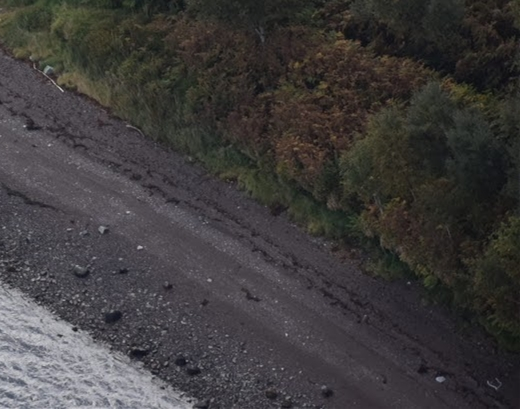tube: (28, 58, 69, 98), (118, 117, 157, 148)
white_in_green: (414, 351, 469, 401)
